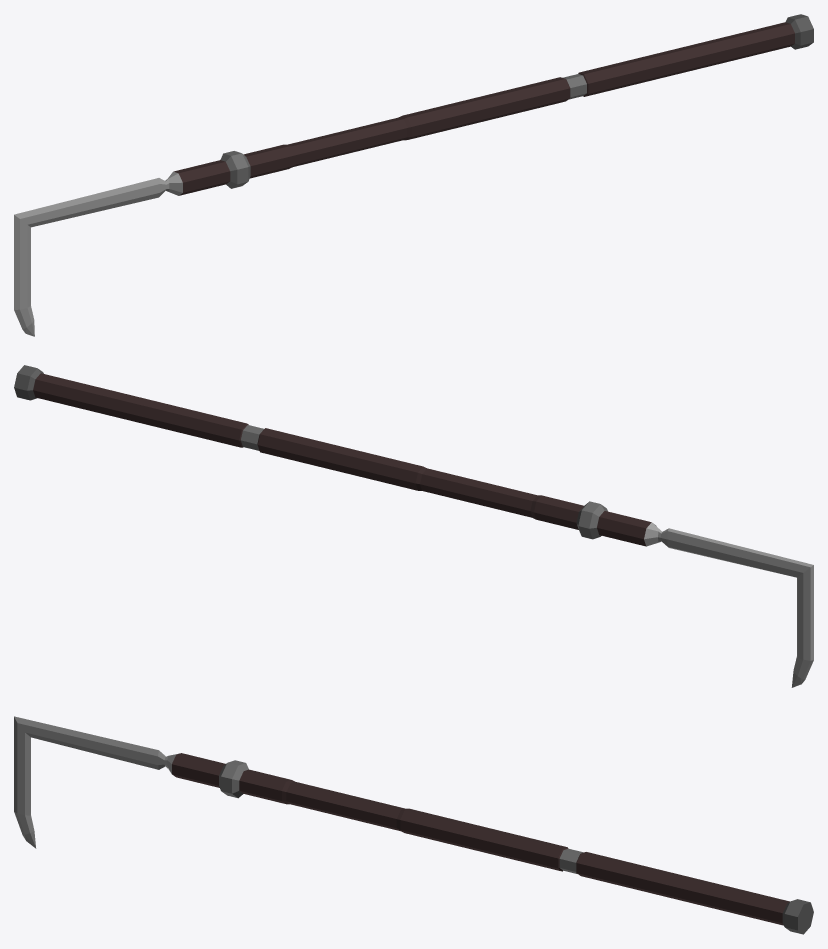
File: Hook Spear_02.fbx
3 renders of one model, top to bottom at view 1: azimuth 30°, elevation 25°; view 2: azimuth 150°, elevation 25°; view 3: azimuth 330°, elevation 25°, orthographic.
Visible parts, largest first — view 1: Kagi Yari; view 2: Kagi Yari; view 3: Kagi Yari.
Boxes of the visible parts, x1,y1,x2,y2 form: Kagi Yari: (14, 14, 813, 336); Kagi Yari: (14, 365, 813, 687); Kagi Yari: (14, 716, 813, 934).
Bounding box in the file's own units: 183 × 29.87 × 7.09.
